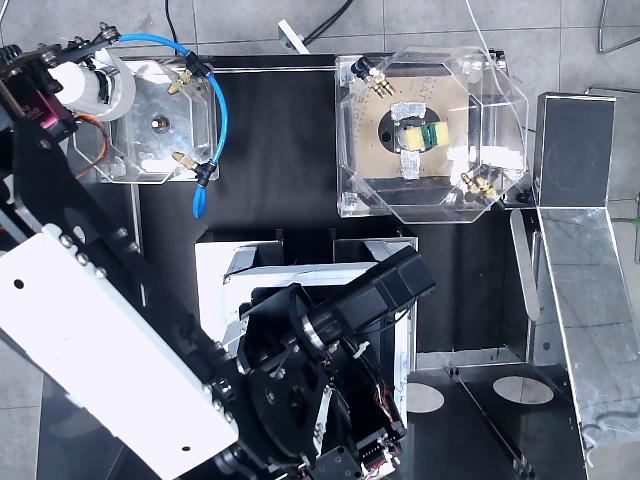cup: (49, 49, 135, 120)
